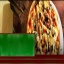pizza: (27, 4, 64, 57)
